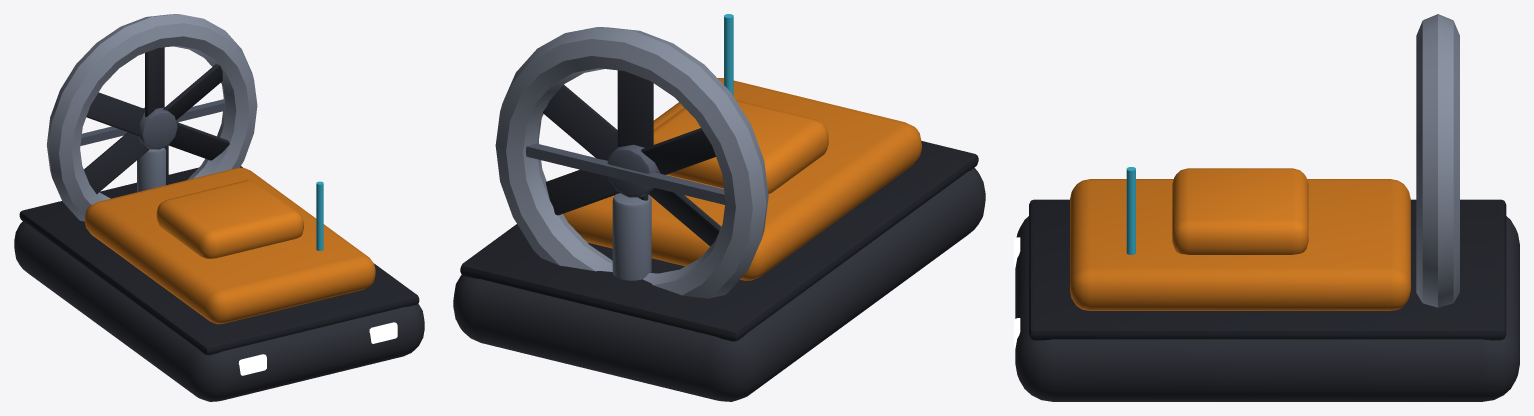
Rendered from v_hover.glb.
The picture shows the model from 3 angles, left to right: view 1: azimuth 30°, elevation 25°; view 2: azimuth 150°, elevation 25°; view 3: azimuth 270°, elevation 25°; orthographic projection. The views are drawn at different scales.
Visible parts, largest first — view 1: body, fan, lamp_glow; view 2: body, fan; view 3: body.
Boxes of the visible parts, <box> form: body: <box>14,14,424,401</box>; fan: <box>84,47,229,193</box>; lamp_glow: <box>238,322,397,375</box>; body: <box>453,14,985,401</box>; fan: <box>543,70,721,246</box>; body: <box>1015,14,1519,401</box>.
Size of the model in its own units: 2.5 by 2.55 by 3.71.
